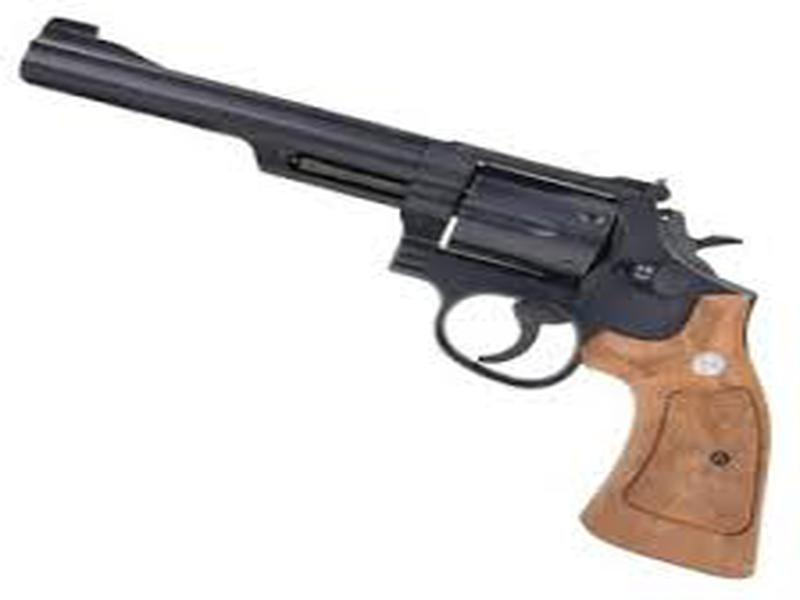gun: (19, 13, 766, 578)
